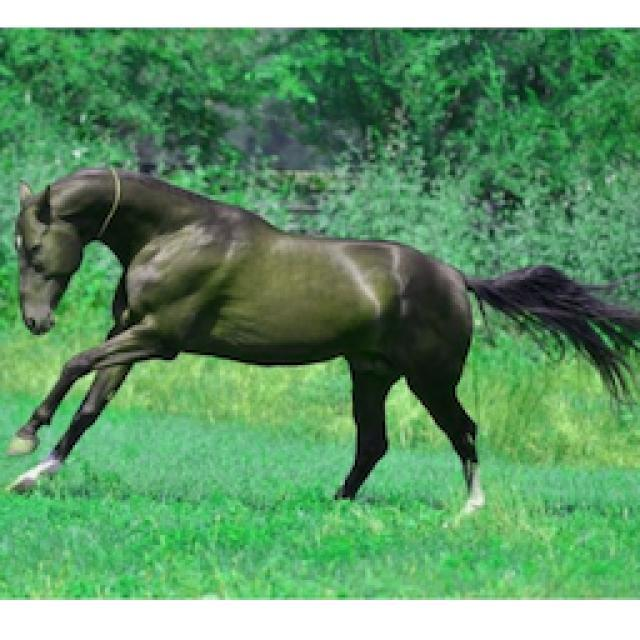Horse: (2, 155, 640, 520)
